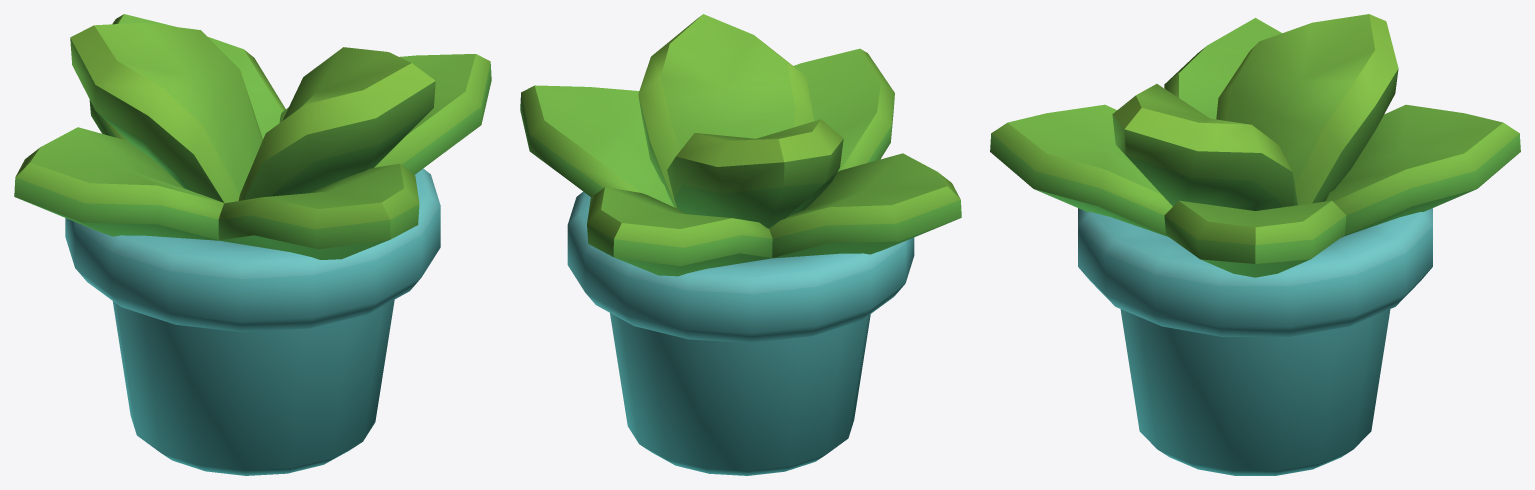
File: plant.fbx
3 views of the same model, side by side, from view 1: azimuth 30°, elevation 25°; view 2: azimuth 150°, elevation 25°; view 3: azimuth 270°, elevation 25° (orthographic). The views are drawn at different scales.
Parts seen in each view (by area): view 1: plant; view 2: plant; view 3: plant.
Boxes of the visible parts, left/top/right/bottom form: plant: left=14, top=14, right=491, bottom=475; plant: left=520, top=14, right=961, bottom=475; plant: left=990, top=14, right=1520, bottom=475.
Bounding box in the file's own units: 0.8225 × 0.6365 × 0.8225.
